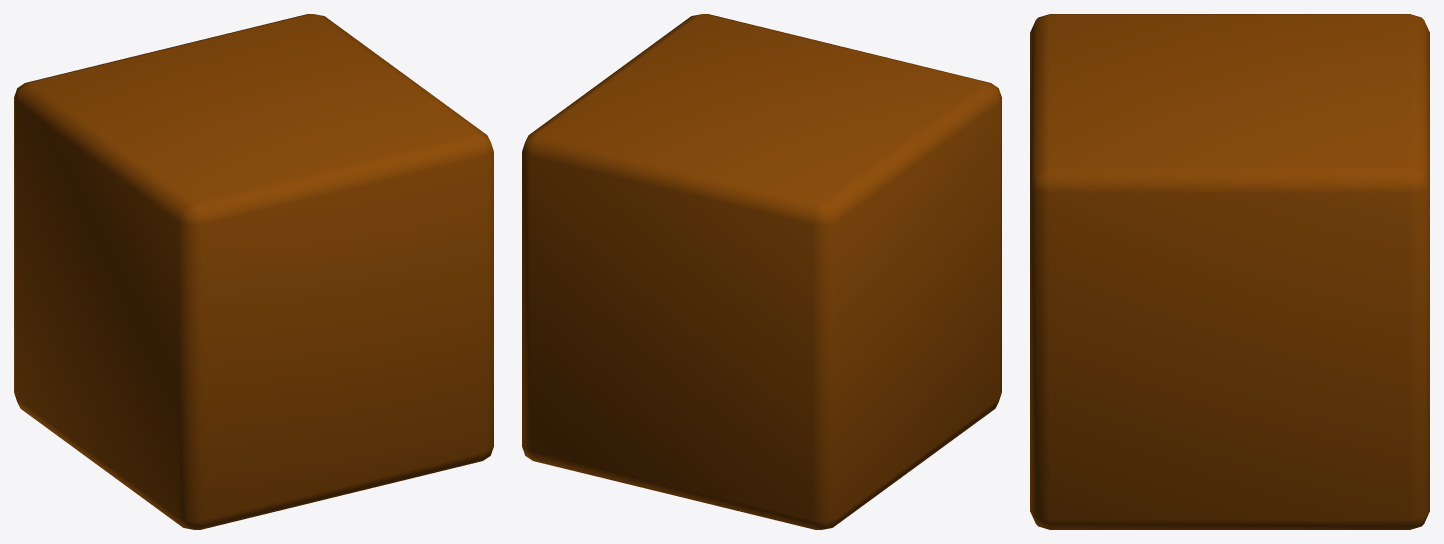
The model's file is 3D_Tile_Ground_05.glb.
The picture shows the model from 3 angles, left to right: view 1: azimuth 30°, elevation 25°; view 2: azimuth 150°, elevation 25°; view 3: azimuth 270°, elevation 25°; orthographic projection. The views are drawn at different scales.
Visible parts, largest first — view 1: 3D_Tile_Ground_05; view 2: 3D_Tile_Ground_05; view 3: 3D_Tile_Ground_05.
Boxes of the visible parts, <box> form: 3D_Tile_Ground_05: <box>14,14,493,529</box>; 3D_Tile_Ground_05: <box>522,14,1001,529</box>; 3D_Tile_Ground_05: <box>1030,14,1429,529</box>.
Size of the model in its own units: 2 by 2 by 2.
1 material, 1 textured.
